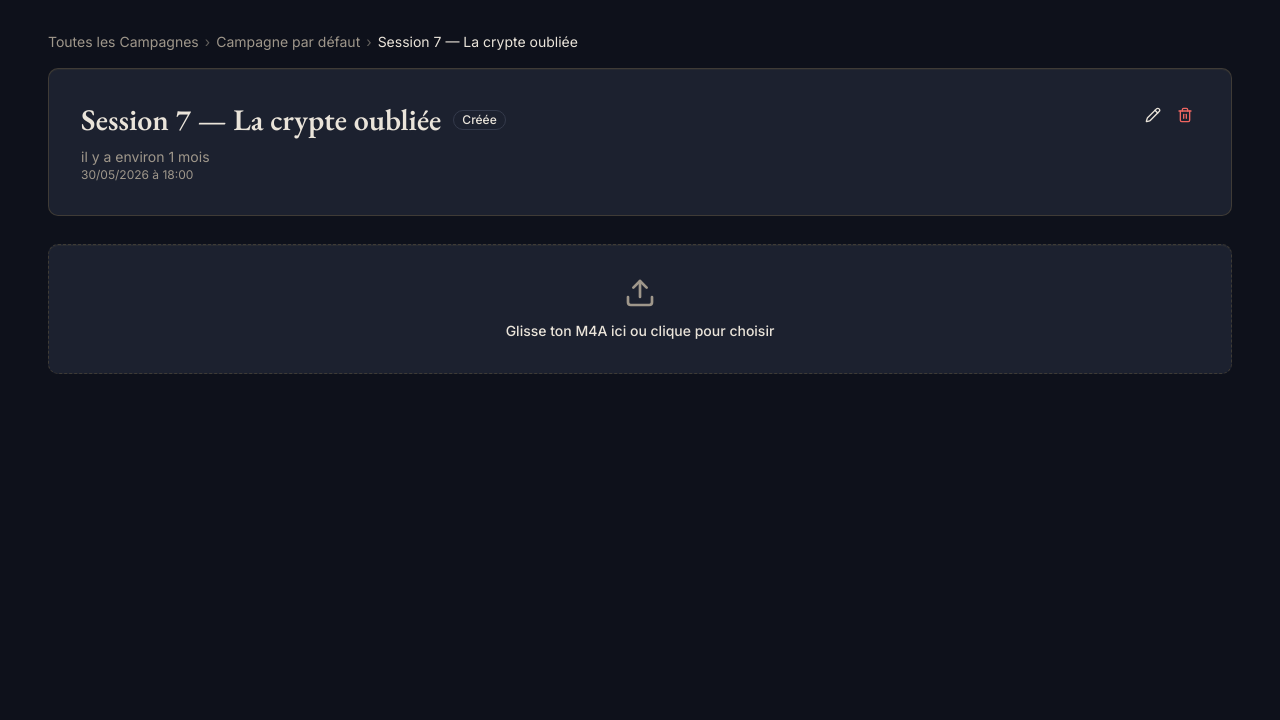
Test: /jdr/campaigns/[campId]/sessions/[sid] page › clicking Modifier opens the SessionEditDialog (Story 2.8)
Click the button named "Modifier la séance" at (1153, 115), box top-left (1139, 101), bottom-right (1167, 129)
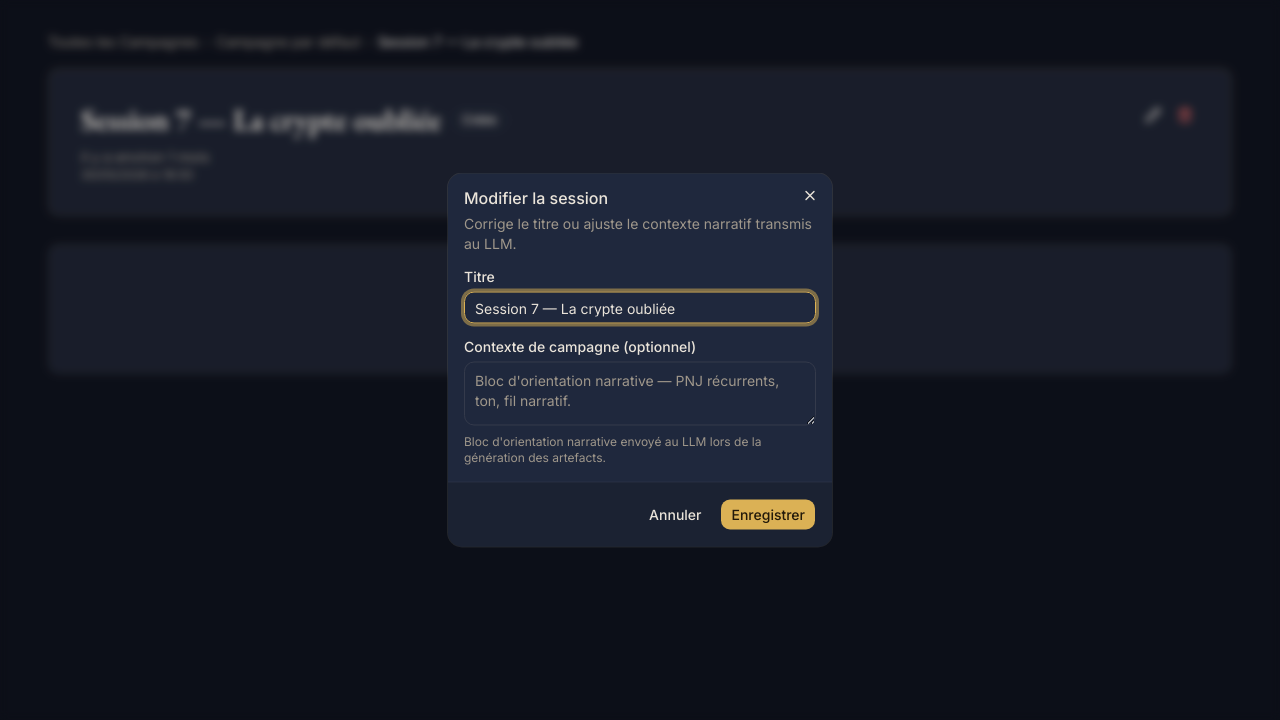
Expected: the heading "Modifier la session" is shown, top-left (464, 188), bottom-right (608, 208)
Expected: the field labelled "Titre" is shown, top-left (464, 292), bottom-right (816, 324)
